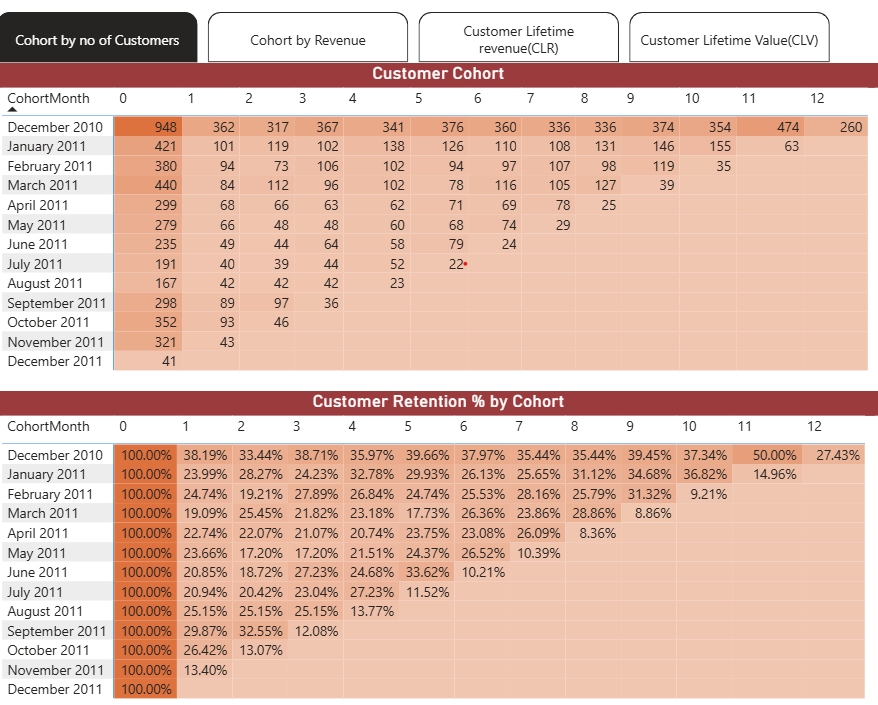

The dashboard page shown, as its layout file describes it:
{"tool":"powerbi","page":{"name":"Cohort by no of Customers","canvas":[1280,720],"ordinal":0},"visuals":[{"type":"pivotTable","title":"Customer Cohort","fields":{"Columns":["Cohort Analysis.CohortIndex"],"Rows":["Customers.CohortMonth"],"Values":["_Measures.CustomersActive"]},"box":[0,87.5,858.8,307.4],"z":0},{"type":"pivotTable","title":"Customer Retention % by Cohort ","fields":{"Rows":["Customers.CohortMonth"],"Columns":["Cohort Analysis.CohortIndex"],"Values":["_Measures.CustomerRetentionPct"]},"box":[0,406.6,858.8,313.2],"z":1000},{"type":"pageNavigator","box":[0,37.9,813.1,49.6],"z":3001}]}

Visuals, with their boxes on the page's 1280x720 design canvas (x1, y1, x2, y2). These are canvas units, not pixel positions in the 878x705 screenshot, which may show the page scaled, cropped or inside an application window:
"Customer Cohort" pivotTable: [x1=0, y1=88, x2=859, y2=395]
"Customer Retention % by Cohort " pivotTable: [x1=0, y1=407, x2=859, y2=720]
pageNavigator: [x1=0, y1=38, x2=813, y2=88]
